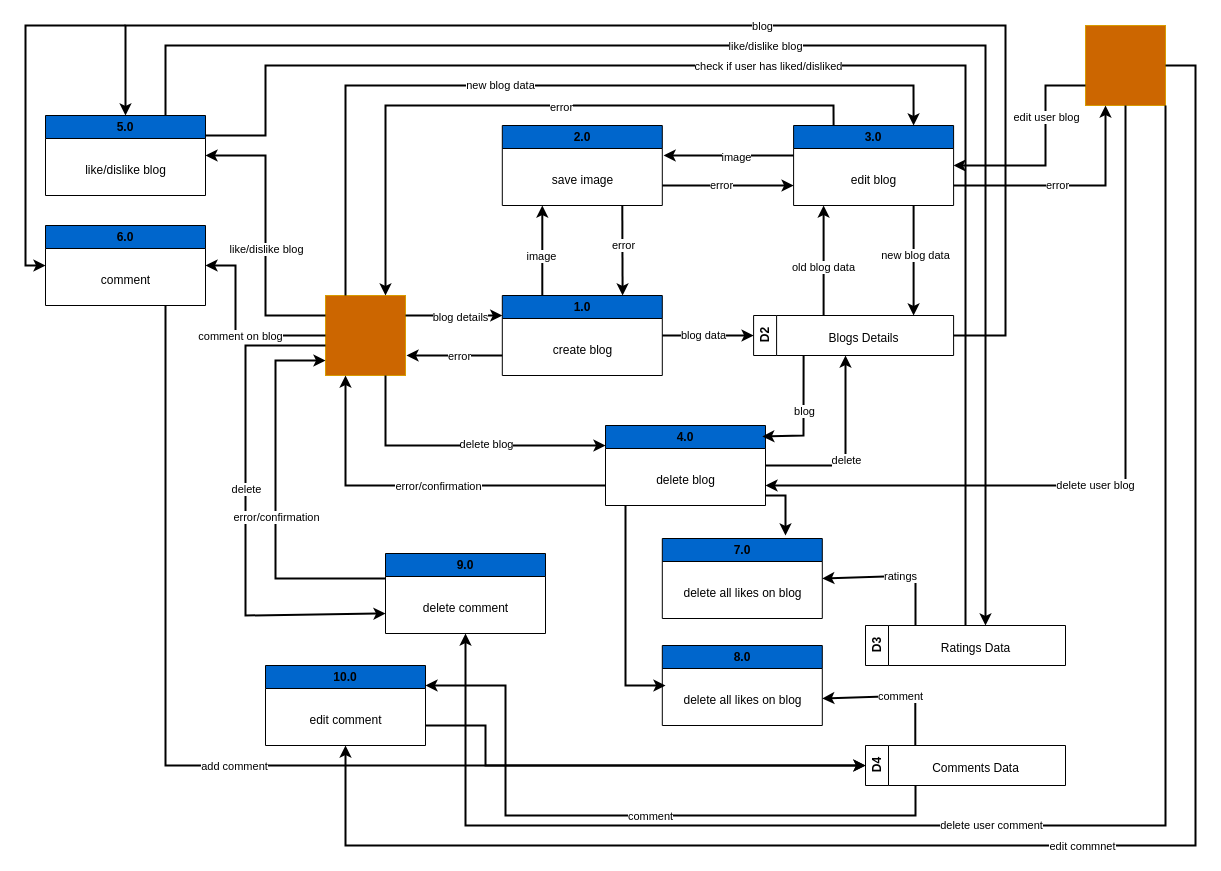
Some shapes in this 1221 by 871 pixel diagram are drawn without their labels. Each missing label, with the centre of its shape:
Admin: point (1125, 65)
USER: point (365, 335)
